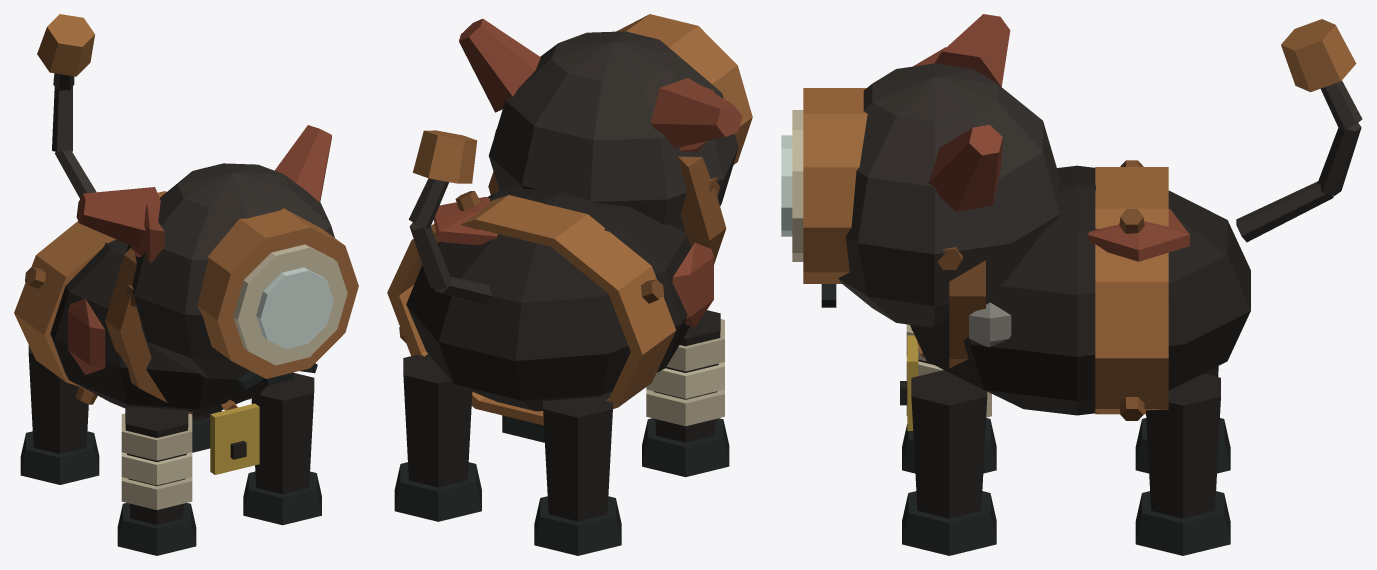
Rendered from camp_pet.glb.
3 renders of one model, left to right at view 1: azimuth 30°, elevation 25°; view 2: azimuth 150°, elevation 25°; view 3: azimuth 270°, elevation 25°, orthographic. The views are drawn at different scales.
Parts seen in each view (by area): view 1: Body; view 2: Body; view 3: Body.
Boxes of the visible parts, x1=… form: Body: x1=14, y1=14, x2=358, y2=555; Body: x1=387, y1=14, x2=752, y2=555; Body: x1=781, y1=14, x2=1362, y2=555.
Bounding box in the file's own units: 0.9589 × 1.42 × 1.59.
